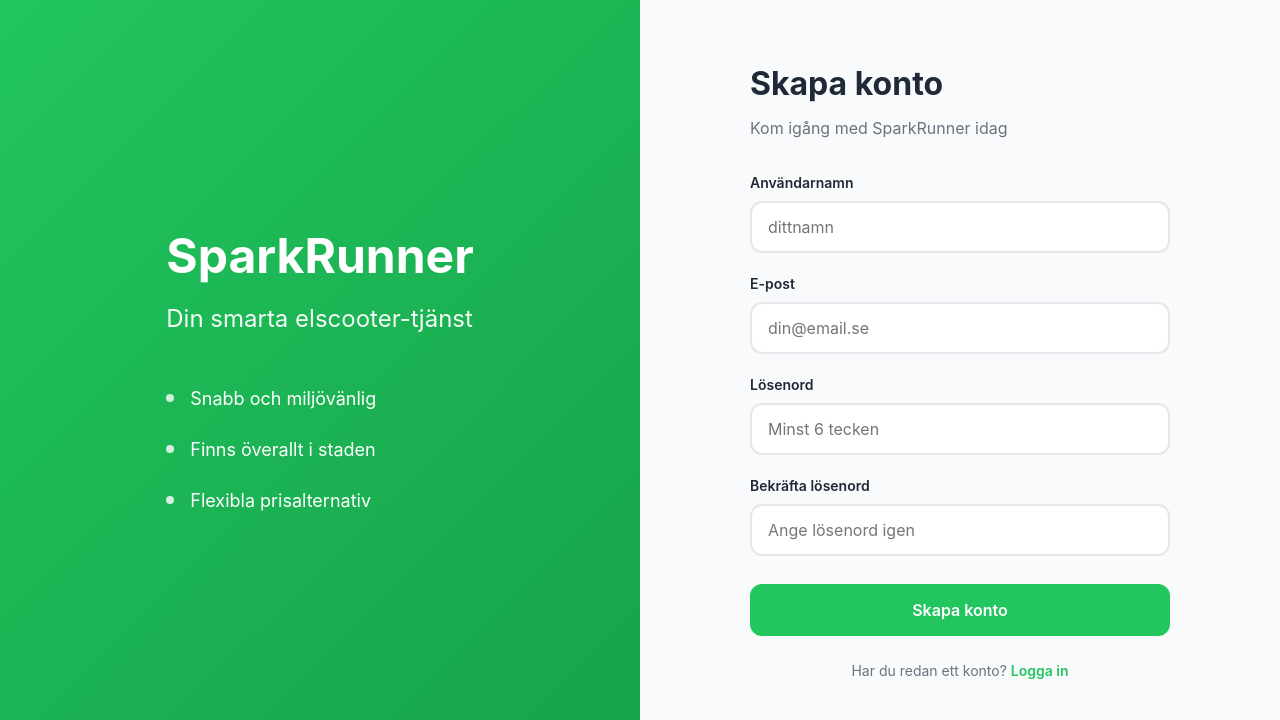
Test: RegisterPage › should show error when password is too short
Step 1. Type "testuser" into the field labelled "Användarnamn" → point(960, 227), box [750,201,1170,253]
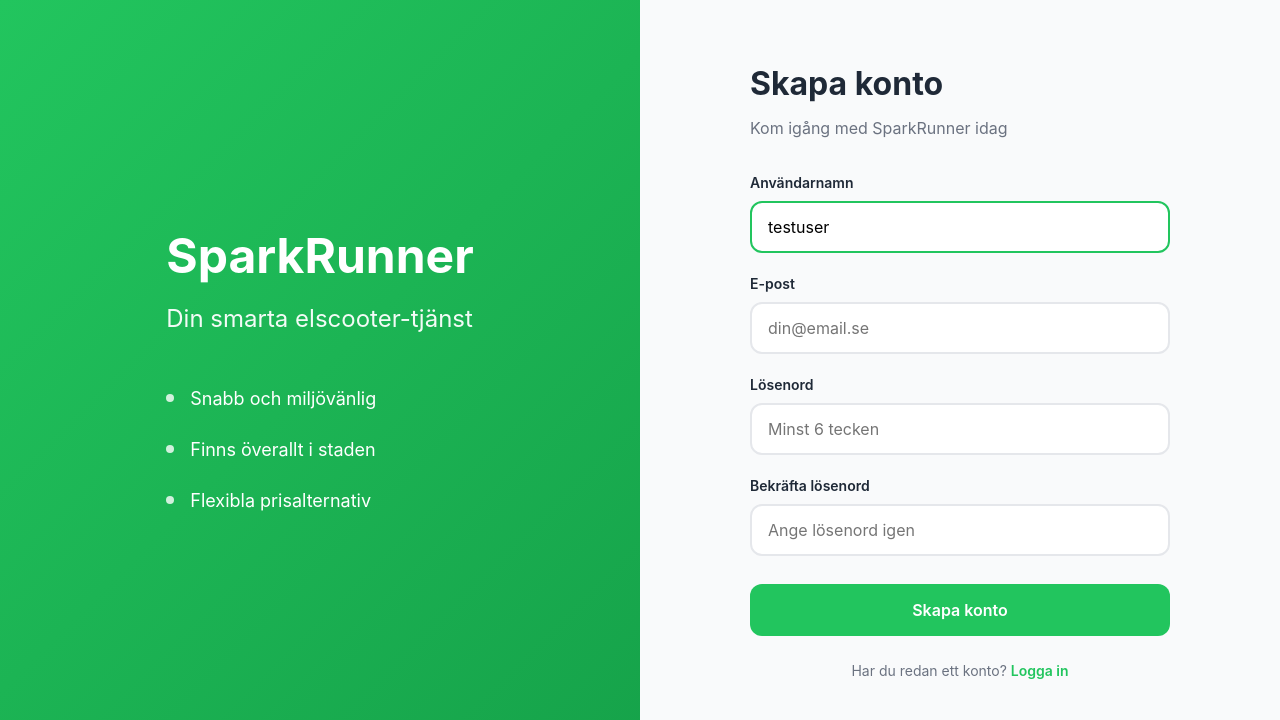
Step 2. Type "test@example.com" into the field labelled "E-post" → point(960, 328), box [750,302,1170,354]
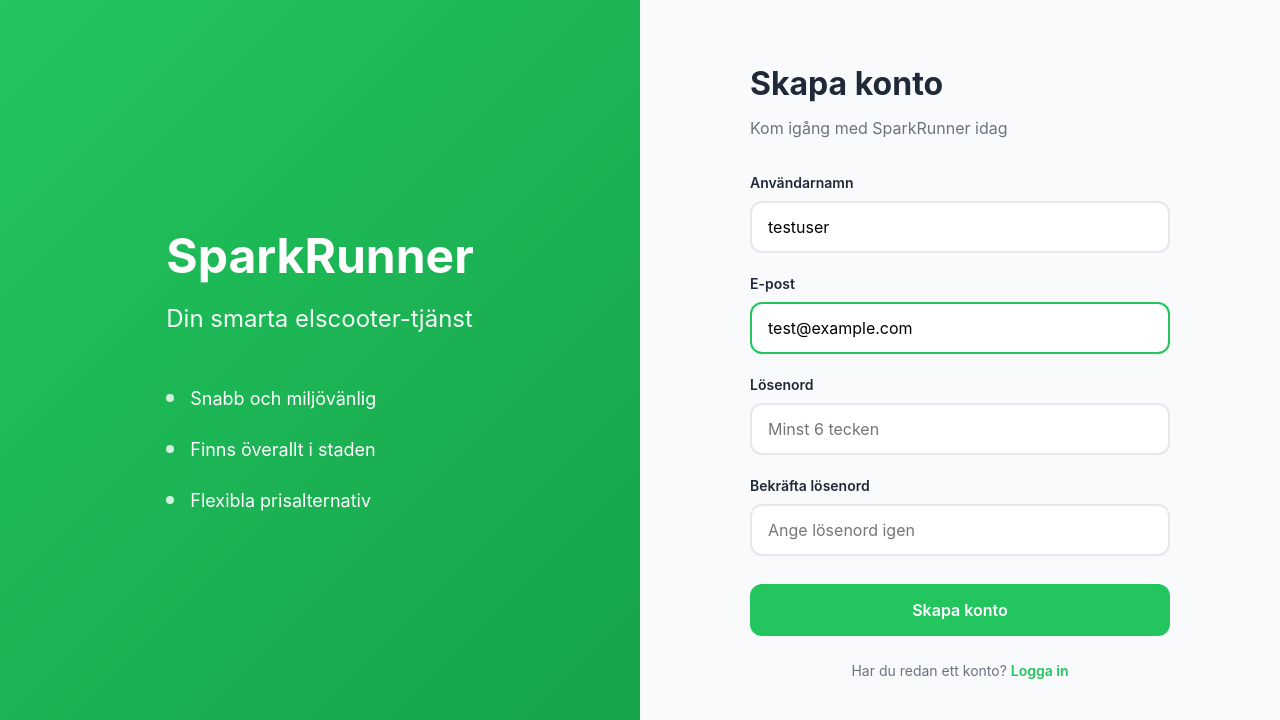
Step 3. Type "12345" into the password field labelled "Lösenord" → point(960, 429), box [750,403,1170,455]
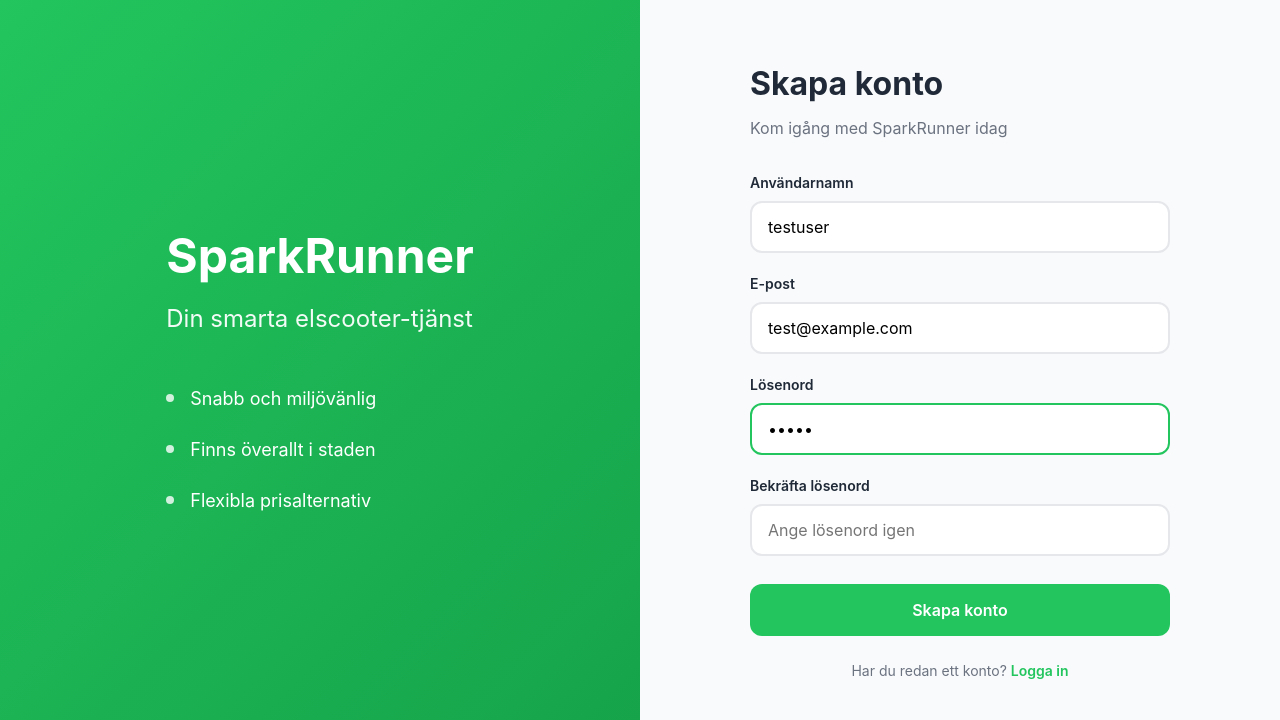
Step 4. Type "12345" into the password field labelled "Bekräfta lösenord" → point(960, 530), box [750,504,1170,556]
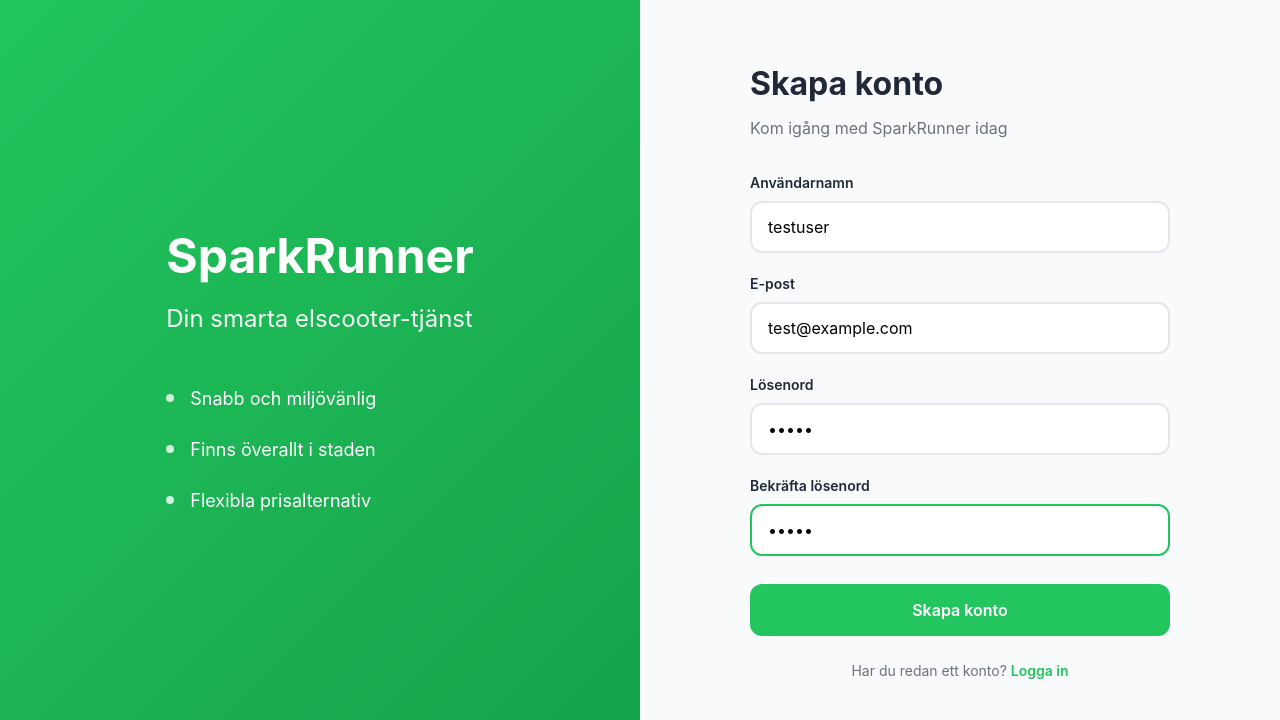
Step 5. Click the button "Skapa konto" → point(960, 610), box [750,584,1170,636]
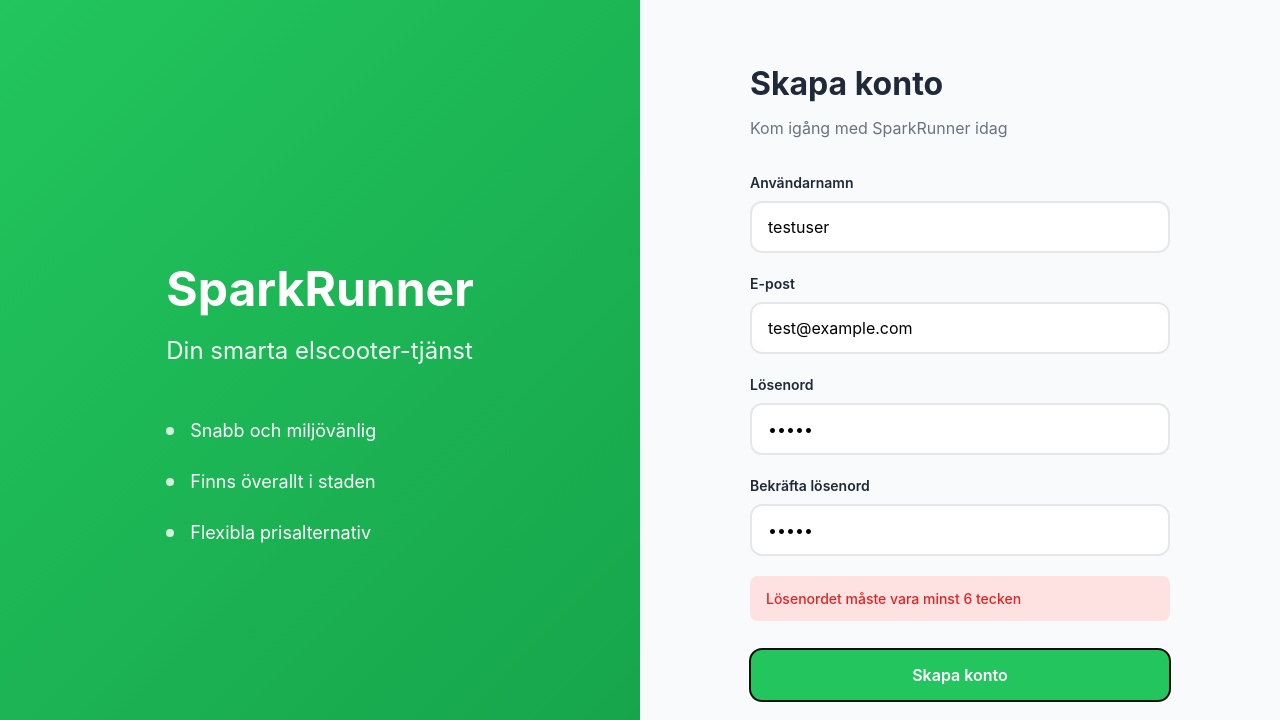
Result: the text "Lösenordet måste vara minst 6 tecken" is shown at [750,576,1170,621]
